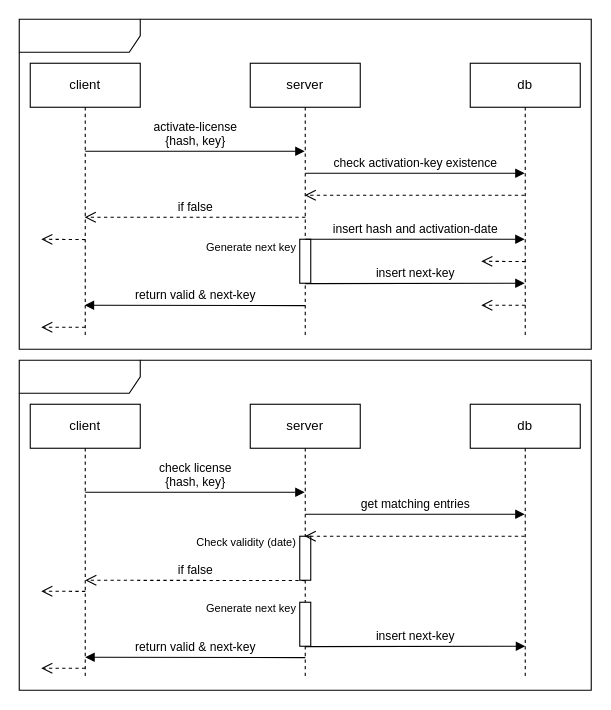
Image size: 611x710. Some labels were removed from this diagram. The box of each missing label's shape, as (x1, y1, x2, y2) in pixels:
license-activation: (18, 18, 591, 349)
license-checking: (18, 359, 591, 690)
